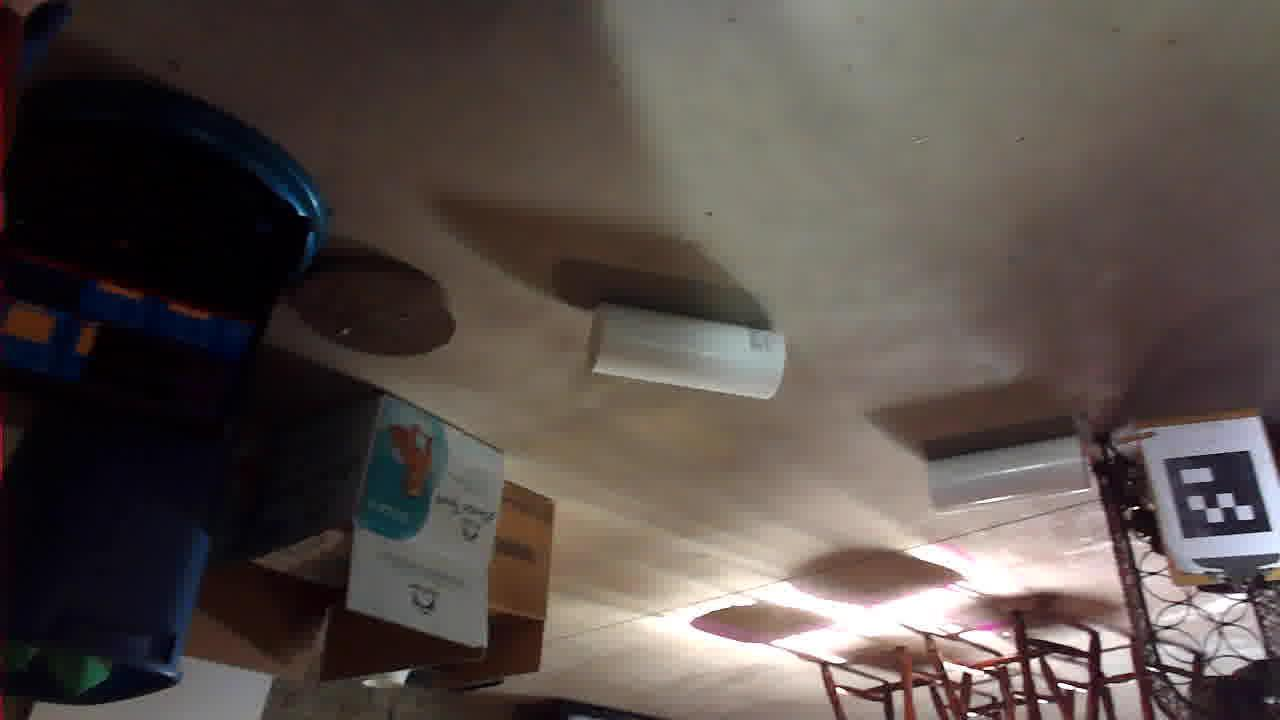coral: (495, 321, 691, 416), (192, 206, 354, 286)
